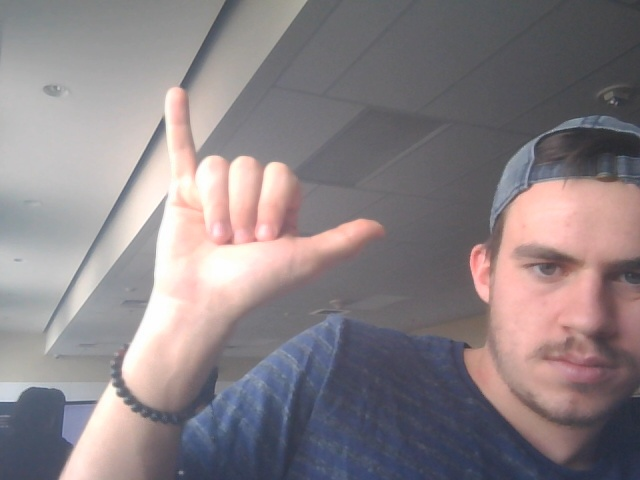birdsup: (144, 81, 396, 330)
